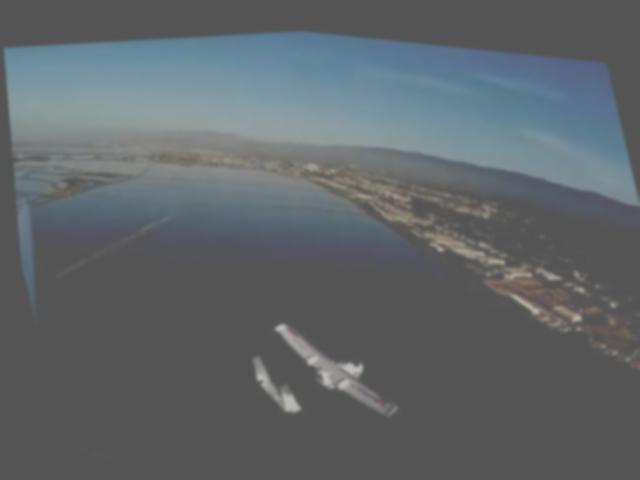iha: (226, 286, 403, 432)
